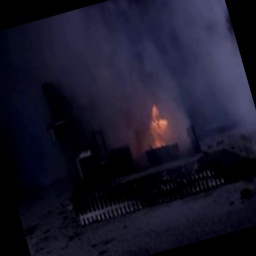fire: (129, 89, 182, 155)
smoke: (36, 0, 243, 123)
